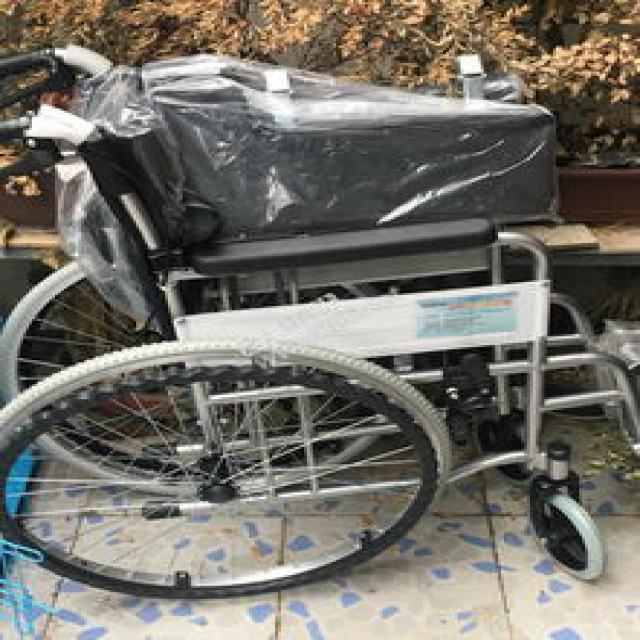wheelchair: (3, 35, 637, 628)
